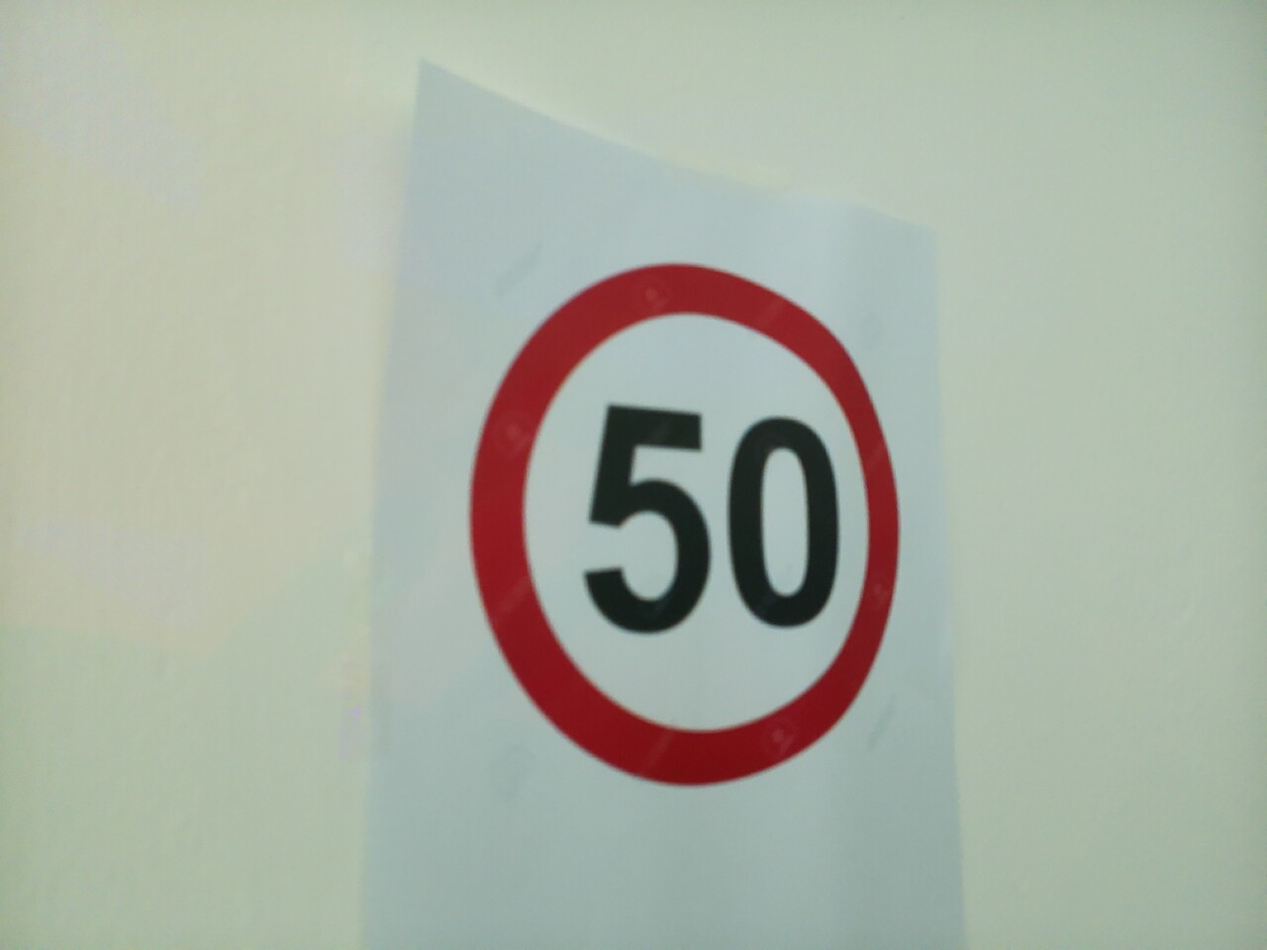speed_50: (721, 409, 845, 635)
